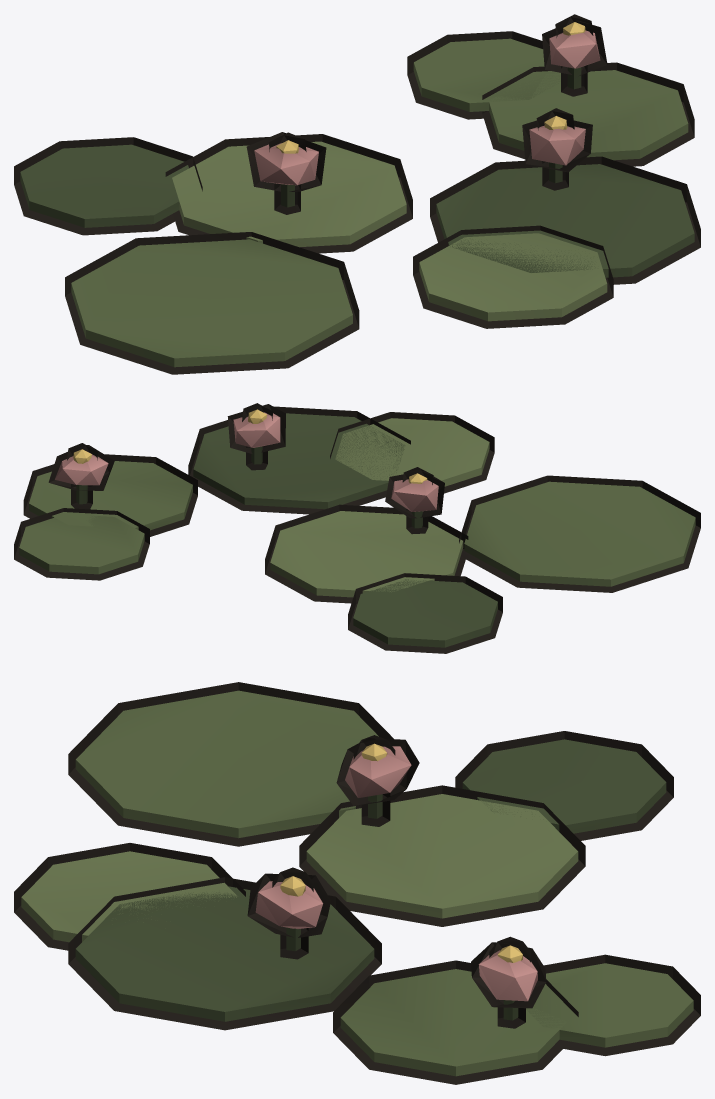
File: nenuphars.glb
The picture shows the model from 3 angles, top to bottom: view 1: azimuth 30°, elevation 25°; view 2: azimuth 150°, elevation 25°; view 3: azimuth 270°, elevation 25°; orthographic projection. The views are drawn at different scales.
Parts seen in each view (by area): view 1: nenuphars, nenuphars_outline; view 2: nenuphars, nenuphars_outline; view 3: nenuphars, nenuphars_outline.
Boxes of the visible parts, x1,y1,x2,y2 form: nenuphars: [20, 22, 694, 367]; nenuphars_outline: [14, 14, 700, 374]; nenuphars: [19, 409, 695, 647]; nenuphars_outline: [14, 403, 700, 653]; nenuphars: [21, 690, 693, 1076]; nenuphars_outline: [14, 682, 700, 1084].
Size of the model in its own units: 1.33 by 0.1858 by 1.01.
